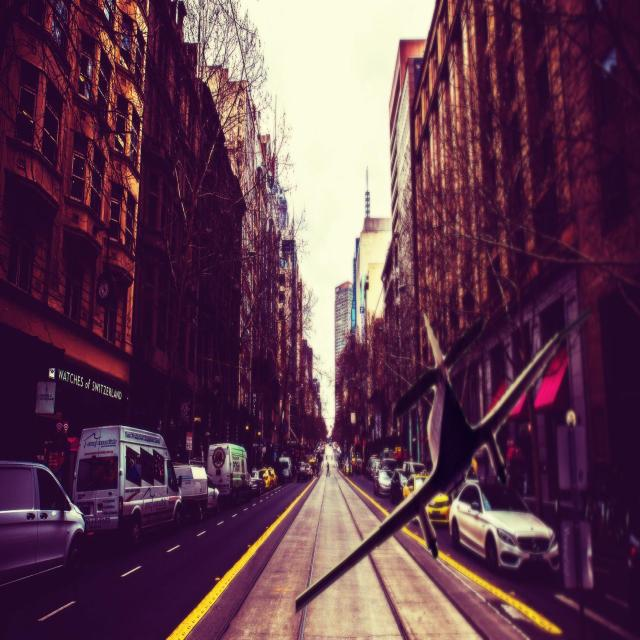airplane: (296, 312, 560, 612)
